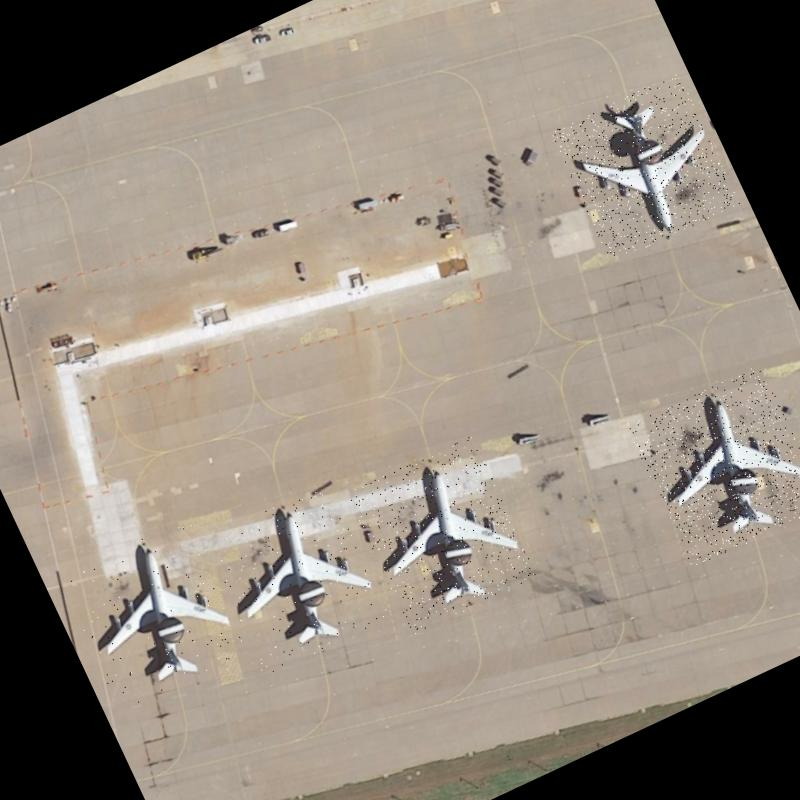A7: (57, 514, 251, 712), (346, 434, 538, 634), (201, 482, 390, 676), (550, 72, 740, 263), (626, 363, 800, 568)
